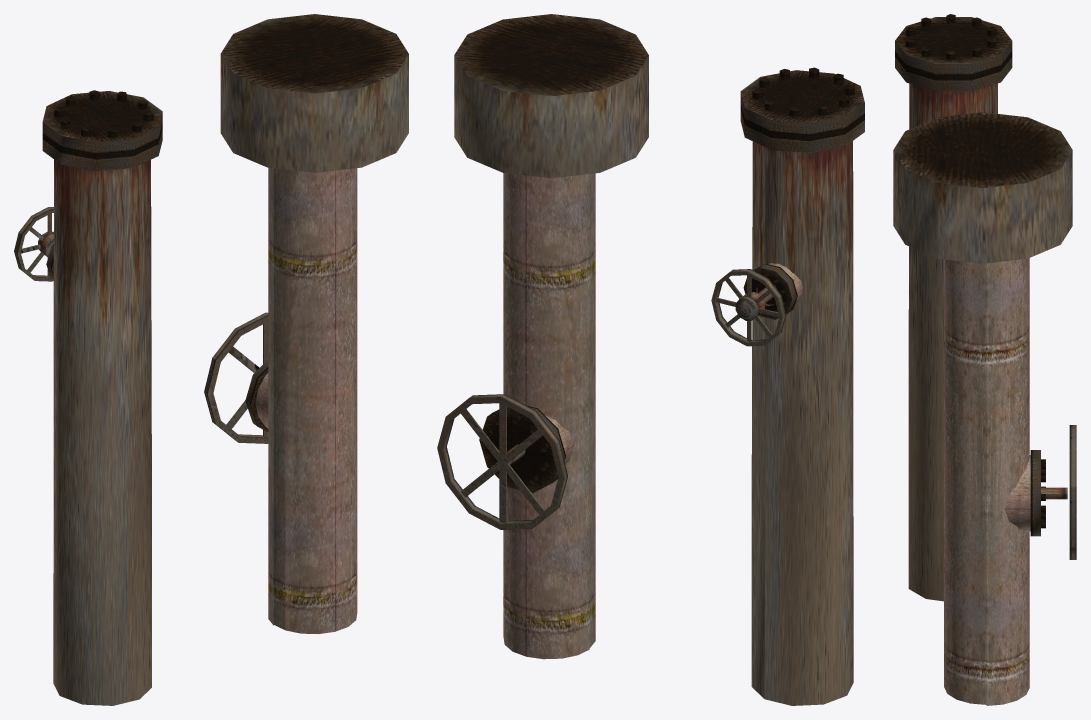
File: OPLT06.glb
3 renders of one model, left to right at view 1: azimuth 30°, elevation 25°; view 2: azimuth 150°, elevation 25°; view 3: azimuth 270°, elevation 25°, orthographic. The views are drawn at different scales.
Parts seen in each view (by area): view 1: _OPLT06; view 2: _OPLT06; view 3: _OPLT06.
Boxes of the visible parts, left/top/right/bottom form: _OPLT06: left=14, top=14, right=408, bottom=705; _OPLT06: left=437, top=14, right=864, bottom=705; _OPLT06: left=893, top=14, right=1076, bottom=705.
Size of the model in its own units: 2.08 by 3.18 by 0.9643.
5 materials, 5 textured.
